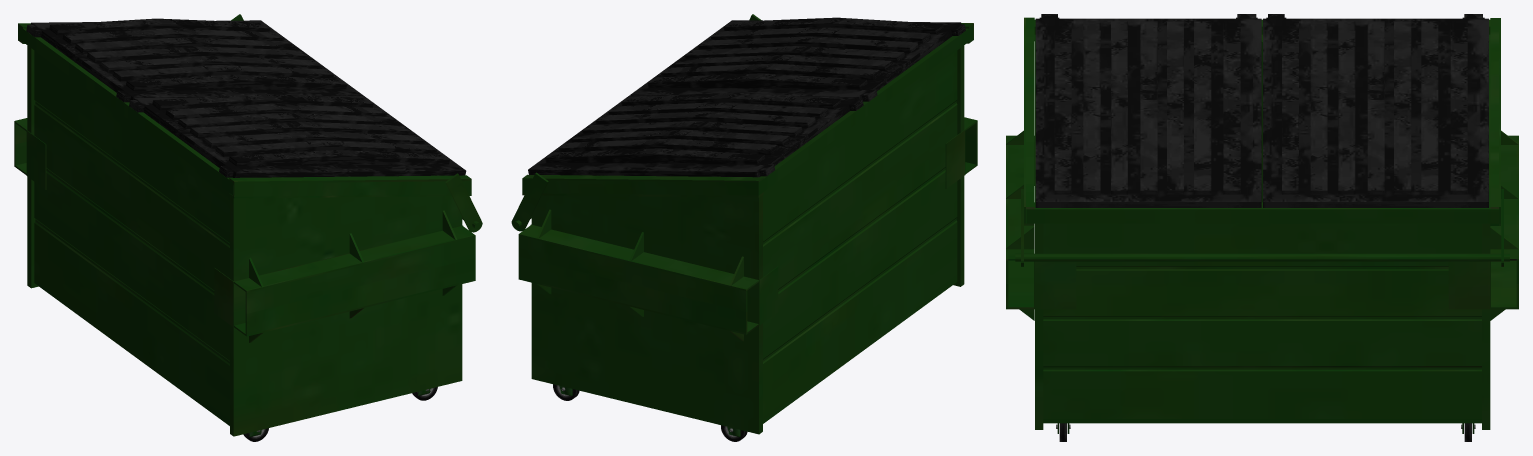
The model's file is dumpster.glb.
3 renders of one model, left to right at view 1: azimuth 30°, elevation 25°; view 2: azimuth 150°, elevation 25°; view 3: azimuth 270°, elevation 25°, orthographic. The views are drawn at different scales.
Parts seen in each view (by area): view 1: dumpster_dumpster_0, lid.001, lid, fastening.001_lid_0; view 2: dumpster_dumpster_0, lid, lid.001, tire_tire_0, fastening.001_lid_0; view 3: dumpster_dumpster_0, lid.001, lid.
Part boxes in pixels (left/top/right/bottom): dumpster_dumpster_0: left=14, top=14, right=482, bottom=436; lid.001: left=133, top=94, right=466, bottom=177; lid: left=30, top=18, right=363, bottom=99; fastening.001_lid_0: left=26, top=24, right=233, bottom=177; dumpster_dumpster_0: left=511, top=14, right=977, bottom=434; lid: left=528, top=92, right=858, bottom=177; lid.001: left=630, top=17, right=961, bottom=99; tire_tire_0: left=553, top=384, right=747, bottom=441; fastening.001_lid_0: left=759, top=24, right=965, bottom=176; dumpster_dumpster_0: left=1006, top=17, right=1518, bottom=429; lid.001: left=1035, top=18, right=1261, bottom=207; lid: left=1263, top=18, right=1488, bottom=207.
Size of the model in its own units: 1.43 by 1.59 by 2.33.
3 materials, 3 textured.
